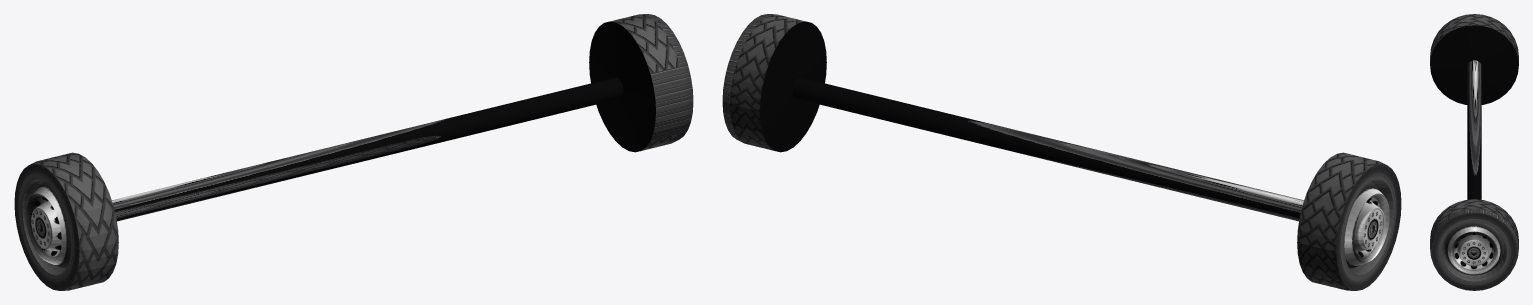
Rendered from Axles.obj.
3 views of the same model, side by side, from view 1: azimuth 30°, elevation 25°; view 2: azimuth 150°, elevation 25°; view 3: azimuth 270°, elevation 25° (orthographic). The views are drawn at different scales.
Visible parts, largest first — view 1: wheels_Cylinder.001; view 2: wheels_Cylinder.001; view 3: wheels_Cylinder.001.
Boxes of the visible parts, x1,y1,x2,y2 form: wheels_Cylinder.001: [14, 14, 693, 290]; wheels_Cylinder.001: [722, 14, 1401, 290]; wheels_Cylinder.001: [1430, 14, 1518, 290].
Size of the model in its own units: 6.54 by 1.21 by 1.21.
